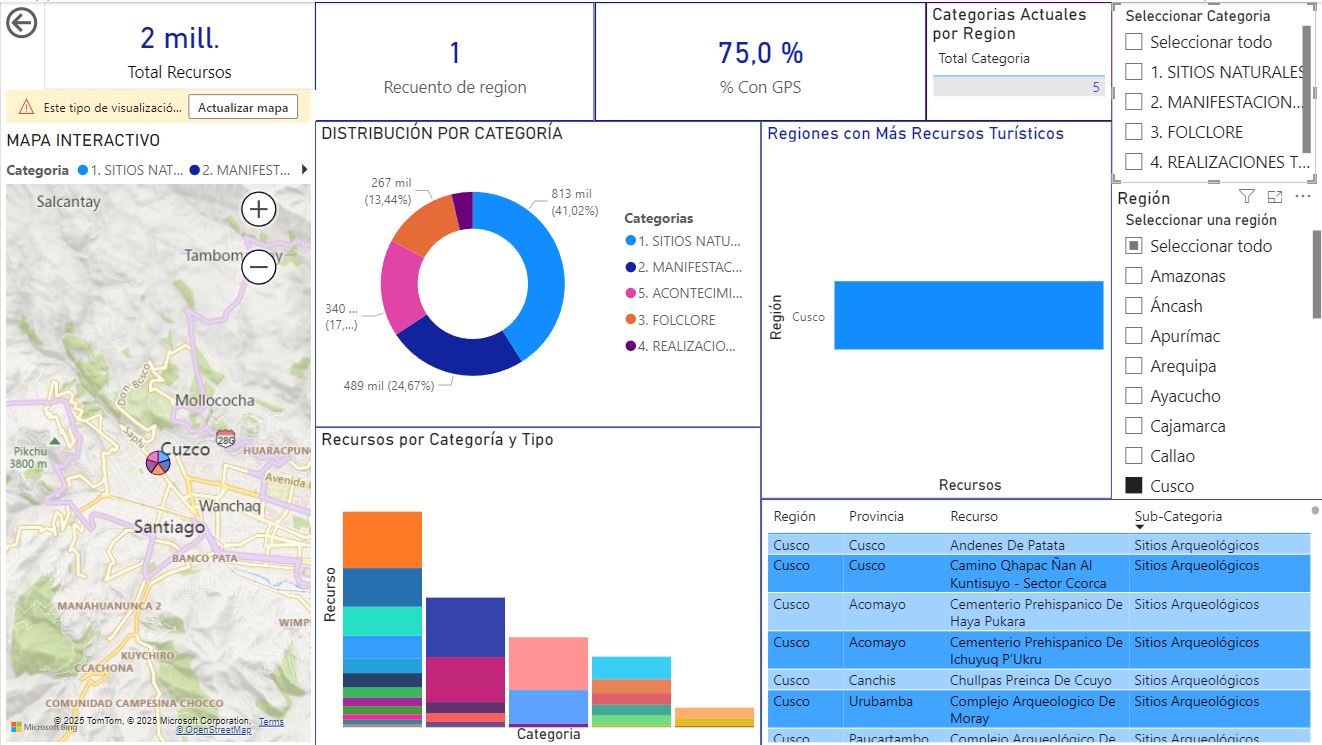

This screenshot's page, from the dashboard's own definition file:
{"tool":"powerbi","page":{"name":"Página 1","canvas":[1280,720],"ordinal":0},"visuals":[{"type":"card","fields":{"Values":["Sum(inventario_recursos_turisticos_limpio.id_recurso)"]},"box":[41.5,0,261.8,85],"z":0},{"type":"actionButton","box":[0,0,100,40],"z":1000},{"type":"card","fields":{"Values":["Count(inventario_recursos_turisticos_limpio.region)"]},"box":[303.3,0,270.5,115],"z":2000},{"type":"card","fields":{"Values":["inventario_recursos_turisticos_limpio.% Con GPS"]},"box":[573.8,0,319.8,115],"z":3000},{"type":"tableEx","title":"Categorias Actuales por Region","fields":{"Values":["inventario_recursos_turisticos_limpio.categoria"]},"box":[893.6,0,179.7,115],"z":4000},{"type":"map","title":"MAPA INTERACTIVO","fields":{"Series":["inventario_recursos_turisticos_limpio.categoria"],"Category":["inventario_recursos_turisticos_limpio.region"],"Y":["Avg(inventario_recursos_turisticos_limpio.latitud)"]},"box":[0,85.3,303.6,635],"z":5000},{"type":"clusteredBarChart","title":"Regiones con Más Recursos Turísticos","fields":{"Y":["Sum(inventario_recursos_turisticos_limpio.id_recurso)"],"Category":["inventario_recursos_turisticos_limpio.region"]},"box":[734.2,115,339.1,365.2],"z":6000},{"type":"donutChart","title":"DISTRIBUCIÓN POR CATEGORÍA","fields":{"Category":["inventario_recursos_turisticos_limpio.categoria"],"Y":["Sum(inventario_recursos_turisticos_limpio.id_recurso)"]},"box":[303.3,115,430.9,295.6],"z":7000},{"type":"columnChart","title":"Recursos por Categoría y Tipo","fields":{"Category":["inventario_recursos_turisticos_limpio.categoria"],"Y":["Sum(inventario_recursos_turisticos_limpio.id_recurso)"],"Series":["inventario_recursos_turisticos_limpio.tipo_de_categoria"]},"box":[303.3,410.6,430.9,310.1],"z":8000},{"type":"tableEx","fields":{"Values":["inventario_recursos_turisticos_limpio.region","inventario_recursos_turisticos_limpio.provincia","inventario_recursos_turisticos_limpio.nombre_del_recurso","inventario_recursos_turisticos_limpio.tipo_de_categoria"]},"box":[734.2,480.1,545.8,240.5],"z":9000},{"type":"slicer","title":"Región","fields":{"Values":["inventario_recursos_turisticos_limpio.region"]},"box":[1073.3,178.7,206.7,301.4],"z":10000},{"type":"slicer","fields":{"Values":["inventario_recursos_turisticos_limpio.categoria"]},"box":[1073.3,0,197.1,174.9],"z":11000}]}

Visuals, with their boxes on the page's 1280x720 design canvas (x1, y1, x2, y2). These are canvas units, not pixel positions in the 1322x745 screenshot, which may show the page scaled, cropped or inside an application window:
card - Sum(inventario_recursos_turisticos_limpio.id_recurso): 42 0 303 85
actionButton: 0 0 100 40
card - Count(inventario_recursos_turisticos_limpio.region): 303 0 574 115
card - inventario_recursos_turisticos_limpio.% Con GPS: 574 0 894 115
"Categorias Actuales por Region" tableEx: 894 0 1073 115
"MAPA INTERACTIVO" map: 0 85 304 720
"Regiones con Más Recursos Turísticos" clusteredBarChart: 734 115 1073 480
"DISTRIBUCIÓN POR CATEGORÍA" donutChart: 303 115 734 411
"Recursos por Categoría y Tipo" columnChart: 303 411 734 721
tableEx - inventario_recursos_turisticos_limpio.region x inventario_recursos_turisticos_limpio.provincia: 734 480 1280 721
"Región" slicer: 1073 179 1280 480
slicer - inventario_recursos_turisticos_limpio.categoria: 1073 0 1270 175
